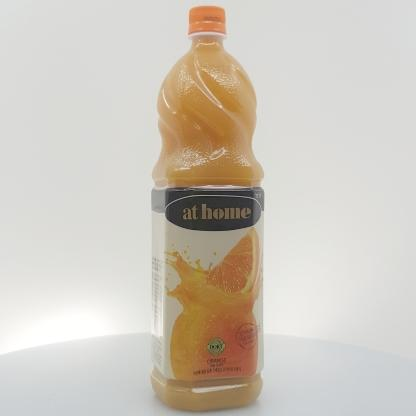-------1-5L: (150, 5, 264, 412)
